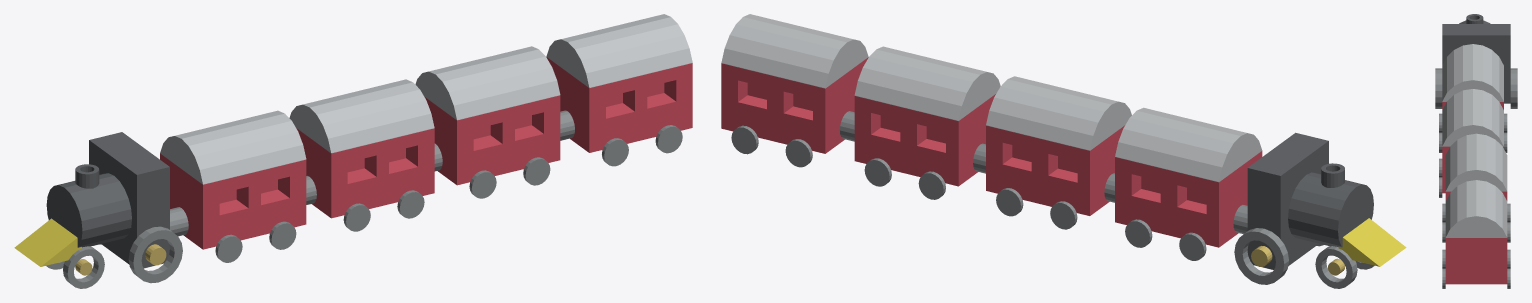
The model's file is 3D_Train_Design.glb.
The picture shows the model from 3 angles, left to right: view 1: azimuth 30°, elevation 25°; view 2: azimuth 150°, elevation 25°; view 3: azimuth 270°, elevation 25°; orthographic projection. The views are drawn at different scales.
Parts seen in each view (by area): view 1: Mesh_Mesh_head_geo.001_lambert2SG.001; view 2: Mesh_Mesh_head_geo.001_lambert2SG.001; view 3: Mesh_Mesh_head_geo.001_lambert2SG.001.
Boxes of the visible parts, <box> form: Mesh_Mesh_head_geo.001_lambert2SG.001: <box>14,14,692,288</box>; Mesh_Mesh_head_geo.001_lambert2SG.001: <box>721,14,1406,288</box>; Mesh_Mesh_head_geo.001_lambert2SG.001: <box>1435,14,1517,288</box>.
Size of the model in its own units: 156 by 26 by 24.
